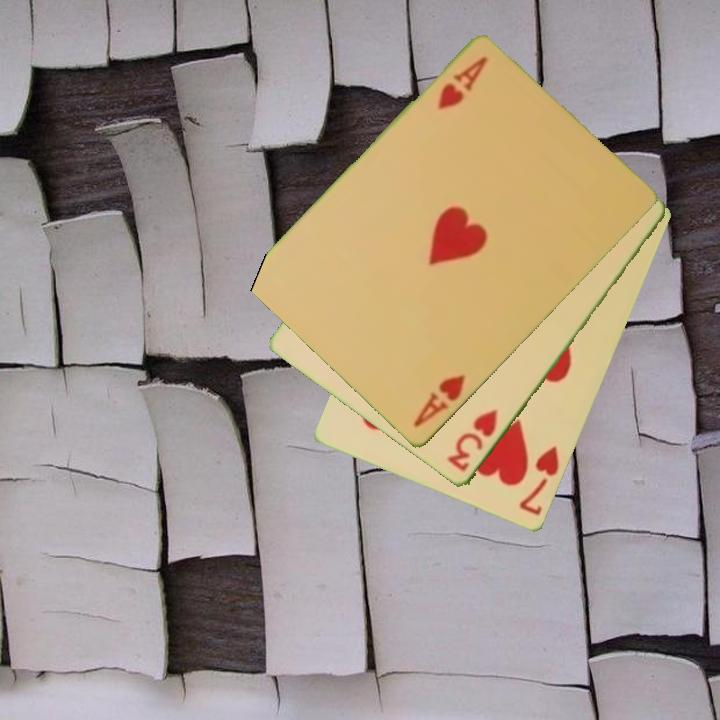3h: (444, 406, 501, 475)
7h: (515, 442, 562, 519)
Ah: (433, 53, 491, 114), (410, 371, 468, 431)
